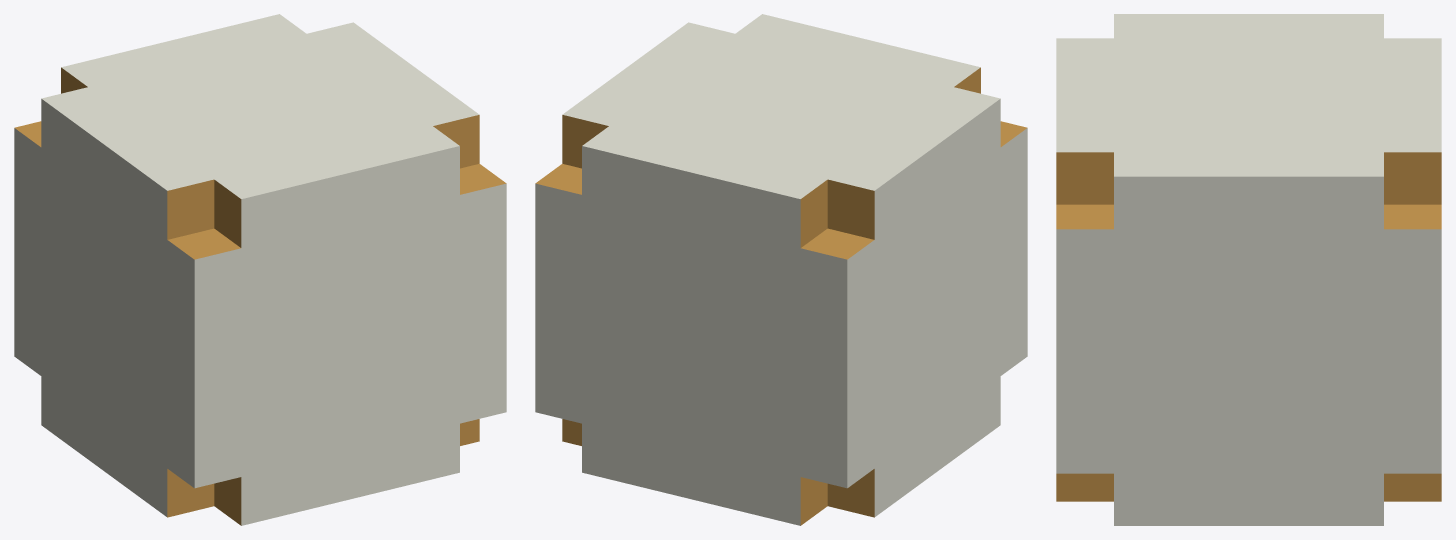
The model's file is blink.obj.
3 views of the same model, side by side, from view 1: azimuth 30°, elevation 25°; view 2: azimuth 150°, elevation 25°; view 3: azimuth 270°, elevation 25° (orthographic). The views are drawn at different scales.
Size of the model in its own units: 1 by 1 by 1.
